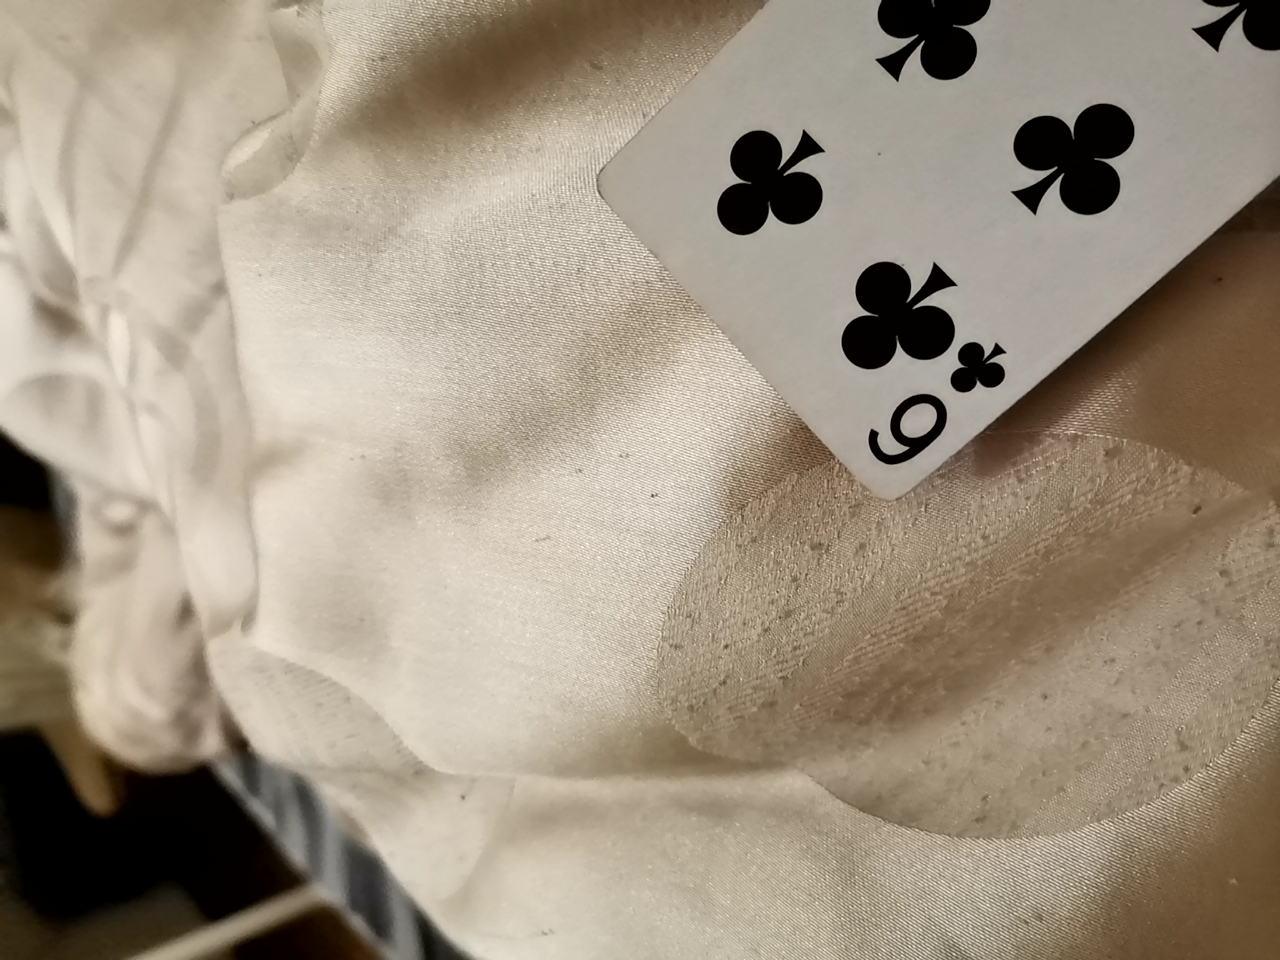mh 6: (573, 0, 1273, 493)
